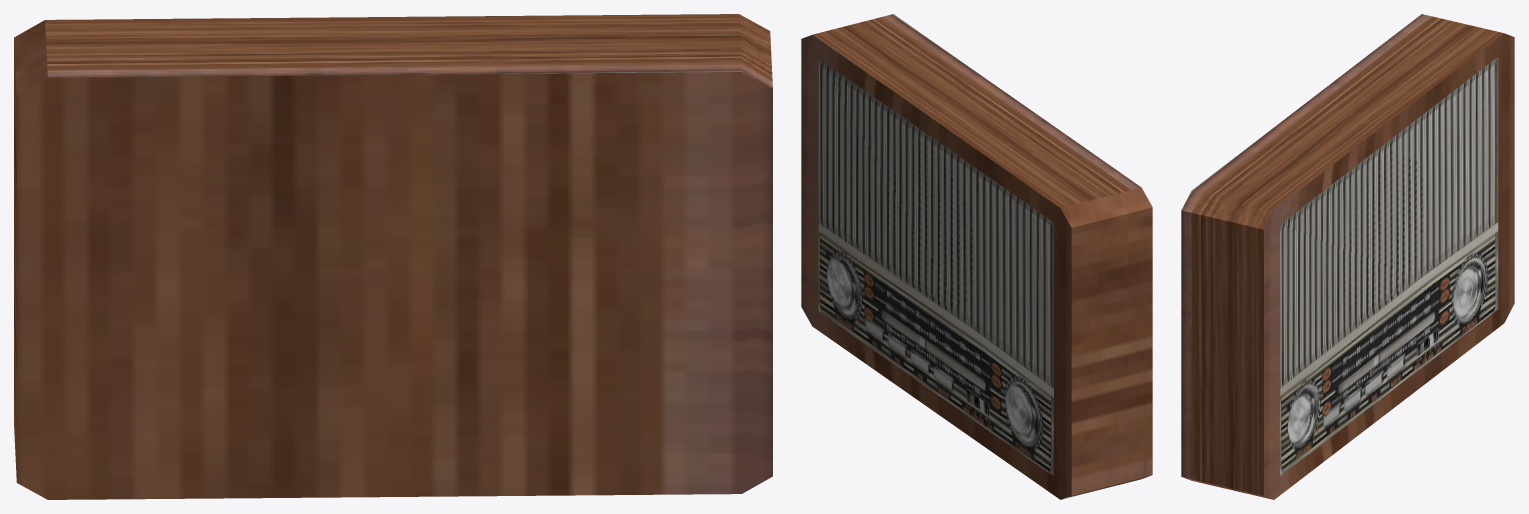
File: radio.fbx
3 renders of one model, left to right at view 1: azimuth 30°, elevation 25°; view 2: azimuth 150°, elevation 25°; view 3: azimuth 270°, elevation 25°, orthographic. The views are drawn at different scales.
Parts seen in each view (by area): view 1: radio; view 2: radio; view 3: radio.
Boxes of the visible parts, box(x1,y1,x2,y2) form: radio: box(14, 14, 772, 499); radio: box(801, 14, 1152, 499); radio: box(1181, 14, 1514, 499).
Bounding box in the file's own units: 122 × 77.8 × 81.
1 material, 1 textured.
